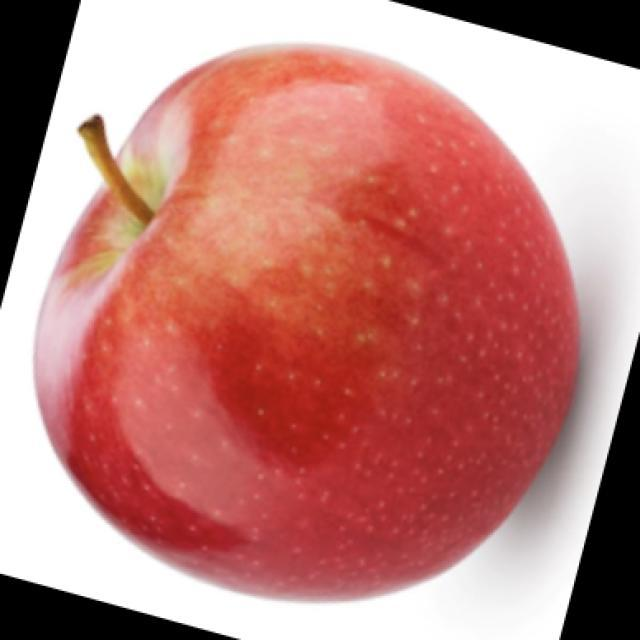Apple: (32, 40, 582, 603)
